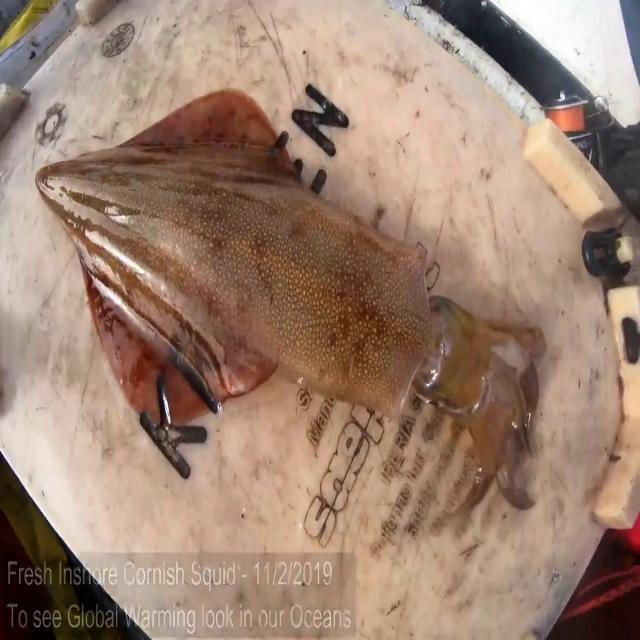SQUID: (23, 71, 640, 499)
